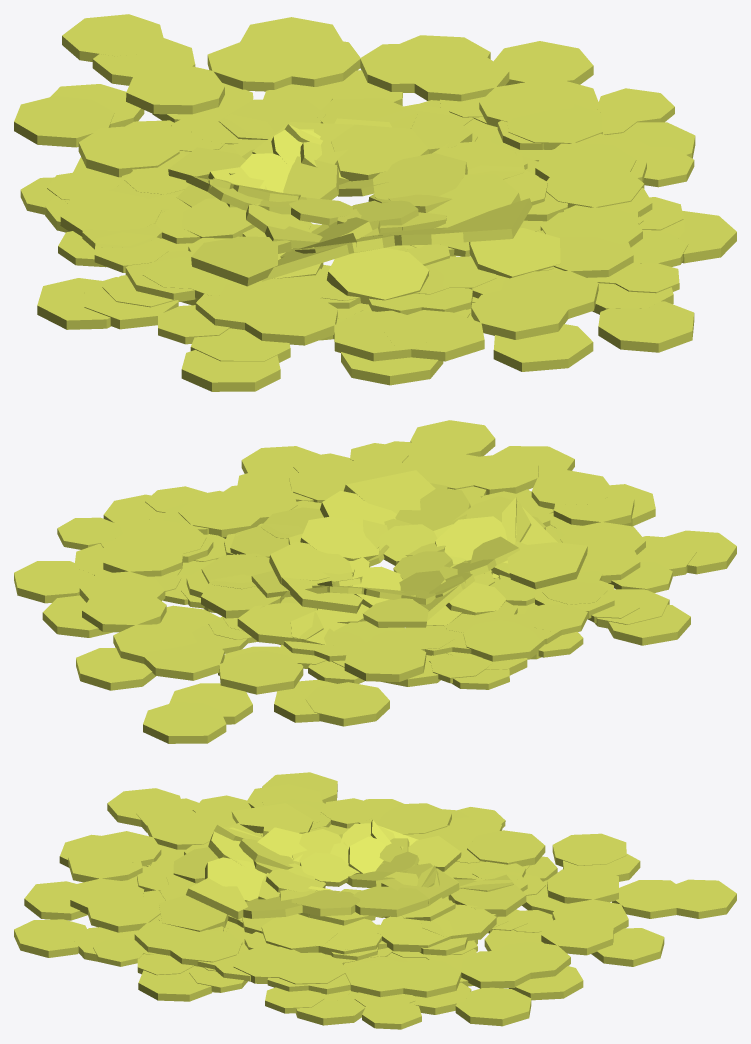
File: enviro money small.fbx
3 views of the same model, one above another, from view 1: azimuth 30°, elevation 25°; view 2: azimuth 150°, elevation 25°; view 3: azimuth 270°, elevation 25° (orthographic). The views are drawn at different scales.
Visible parts, largest first — view 1: Cylinder.021; view 2: Cylinder.021; view 3: Cylinder.021.
Part boxes in pixels (box(x1,y1,x2,y2)): Cylinder.021: box(14, 14, 736, 391); Cylinder.021: box(14, 420, 736, 743); Cylinder.021: box(14, 772, 736, 1029).
Bounding box in the file's own units: 153 × 14.81 × 185.
